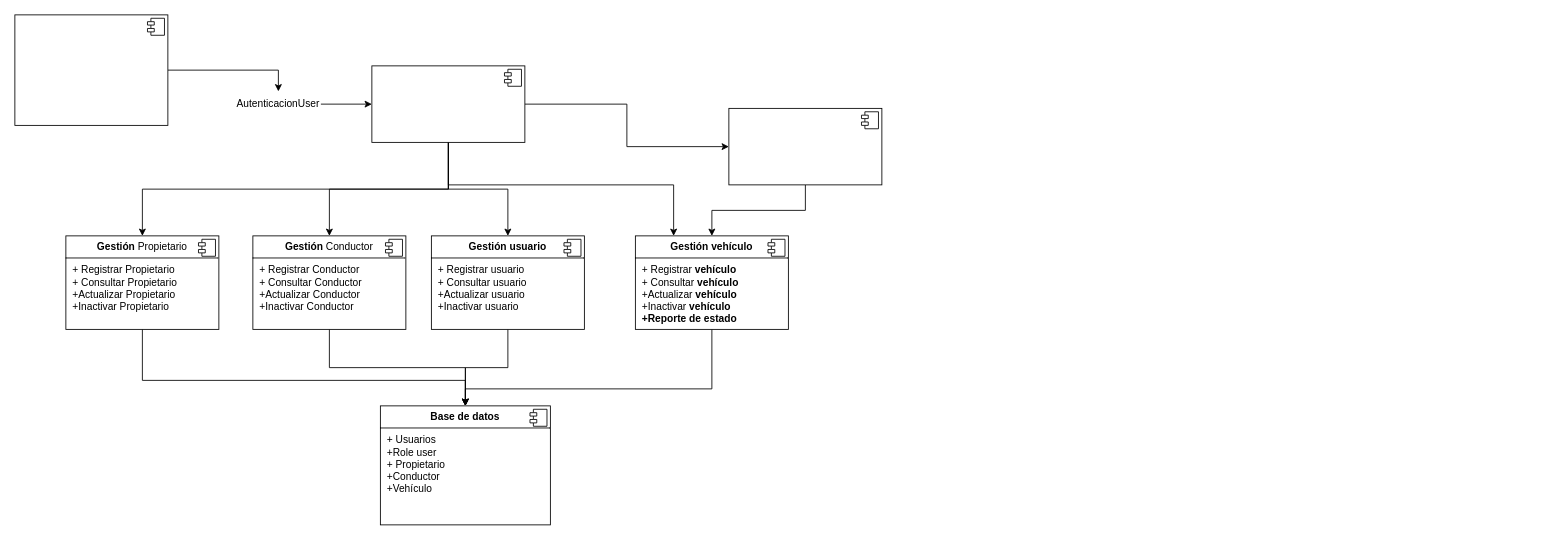
Some shapes in this 1567 by 540 pixel diagram are drawn without their labels. The box of each missing label's shape, as (x1, y1, x2, y2) in pixels:
Control Estado + Consultar vehículo + Registrar Estado +Generar reporte: (728, 108, 882, 185)
Front-End + Formularios + Acceso según rol +Vista consulta +Vista registro: (14, 14, 168, 125)
Servidor + Autenticación: + Verificar ROL: +Enrutamiento: (371, 65, 525, 142)
